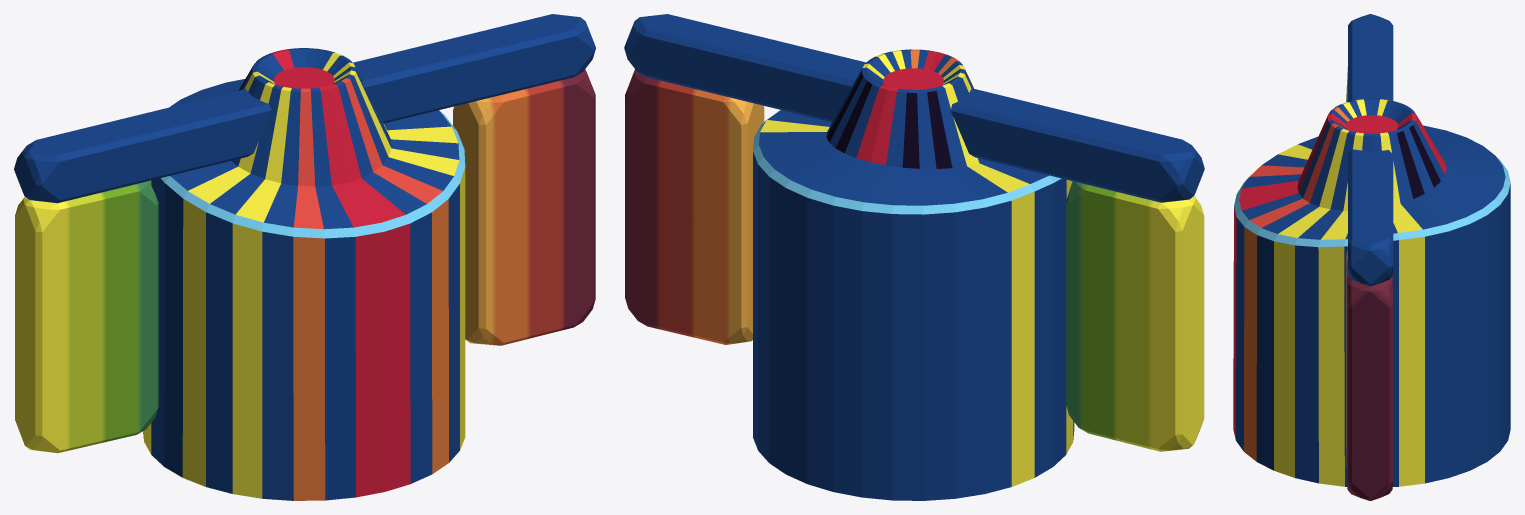
File: Picker_PowerUp.fbx
The picture shows the model from 3 angles, left to right: view 1: azimuth 30°, elevation 25°; view 2: azimuth 150°, elevation 25°; view 3: azimuth 270°, elevation 25°; orthographic projection. The views are drawn at different scales.
Visible parts, largest first — view 1: PowerUp, PowerUpArms; view 2: PowerUp, PowerUpArms; view 3: PowerUp, PowerUpArms.
Boxes of the visible parts, box(x1,y1,x2,y2) form: PowerUp: box(143, 48, 465, 500); PowerUpArms: box(14, 14, 595, 453); PowerUp: box(753, 49, 1074, 500); PowerUpArms: box(624, 14, 1204, 451); PowerUp: box(1233, 98, 1510, 486); PowerUpArms: box(1346, 14, 1393, 500).
Bounding box in the file's own units: 199 × 124 × 99.5.
Materials: 1 (1 with a texture image).
